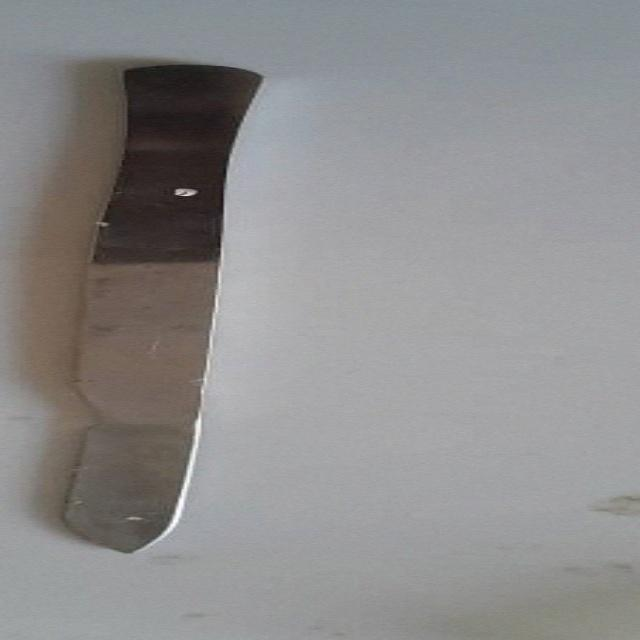Knife: (34, 55, 284, 554)
